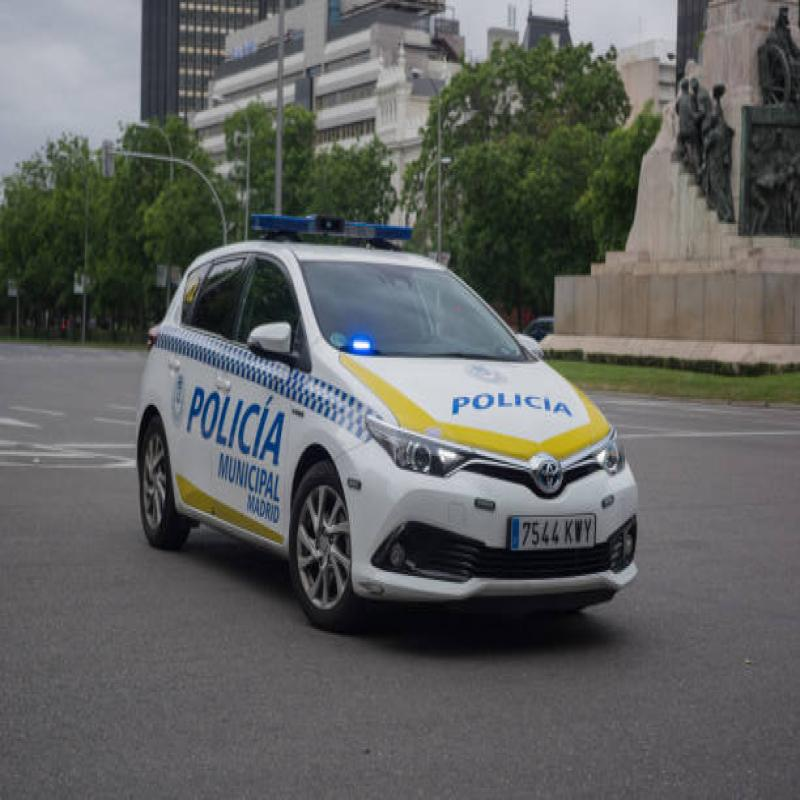AmbulanceSiren: (239, 198, 417, 268)
